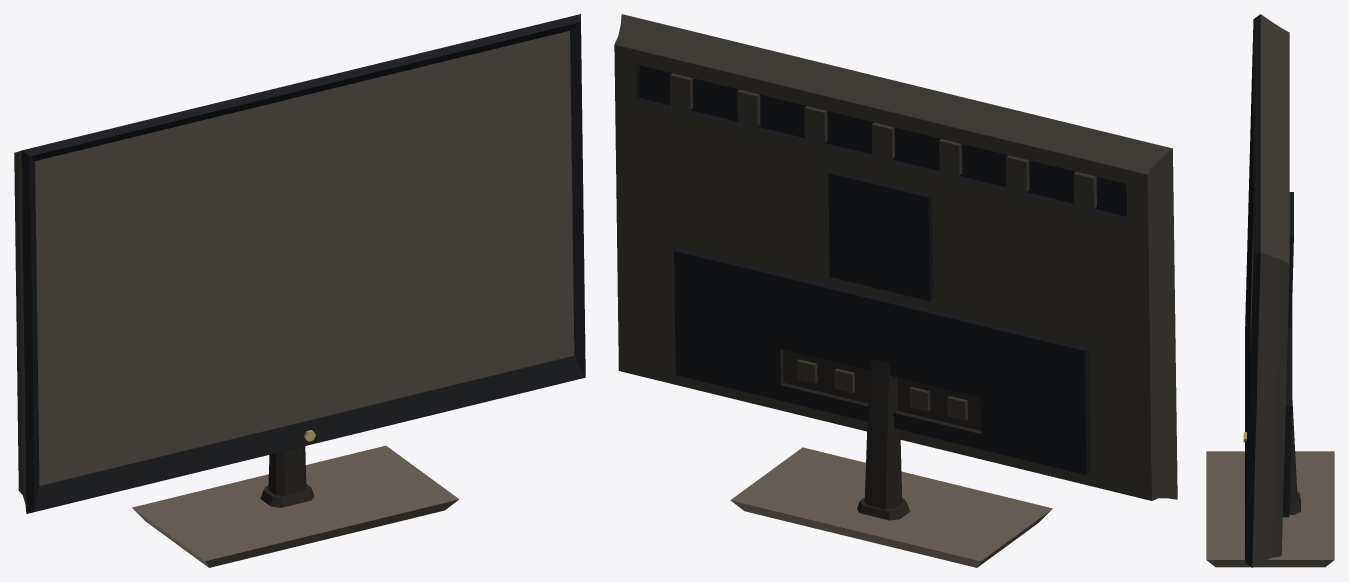
Rendered from flat-screen-television-97b1f3.glb.
3 views of the same model, side by side, from view 1: azimuth 30°, elevation 25°; view 2: azimuth 150°, elevation 25°; view 3: azimuth 270°, elevation 25° (orthographic). The views are drawn at different scales.
Parts seen in each view (by area): view 1: television; view 2: television; view 3: television.
Part boxes in pixels (box(x1,y1,x2,y2)): television: box(14, 14, 585, 567); television: box(614, 14, 1177, 567); television: box(1206, 14, 1334, 567).
Size of the model in its own units: 1.1 by 0.8233 by 0.25.
